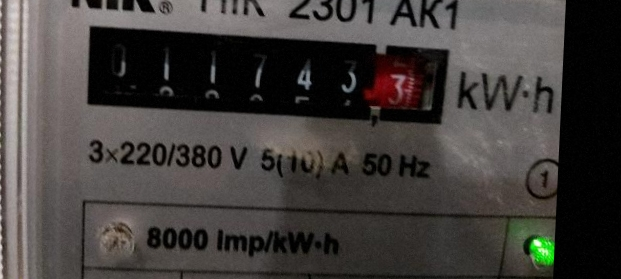0: (106, 40, 129, 80), (155, 42, 175, 83)
1: (202, 45, 220, 86)
3: (337, 54, 359, 98), (385, 69, 406, 108)
4: (292, 52, 314, 93)
7: (245, 47, 270, 92)
screen: (65, 11, 457, 136)
